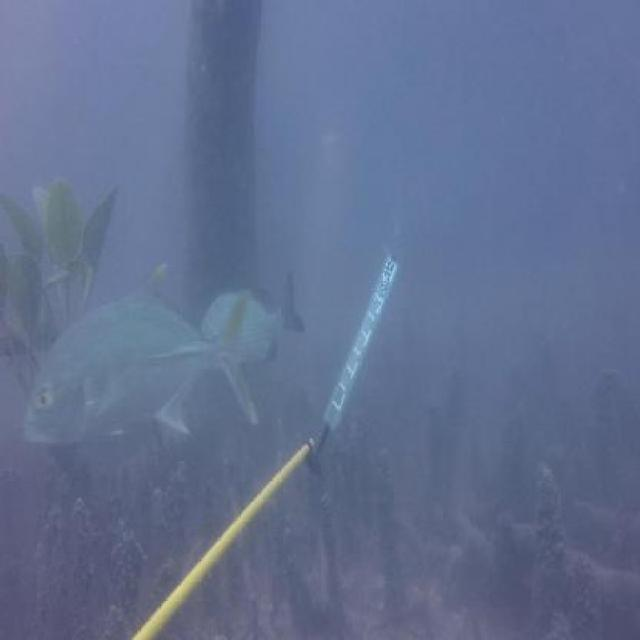Caranx: (22, 255, 264, 442)
acanthopagrus_palmaris: (201, 266, 308, 371)
